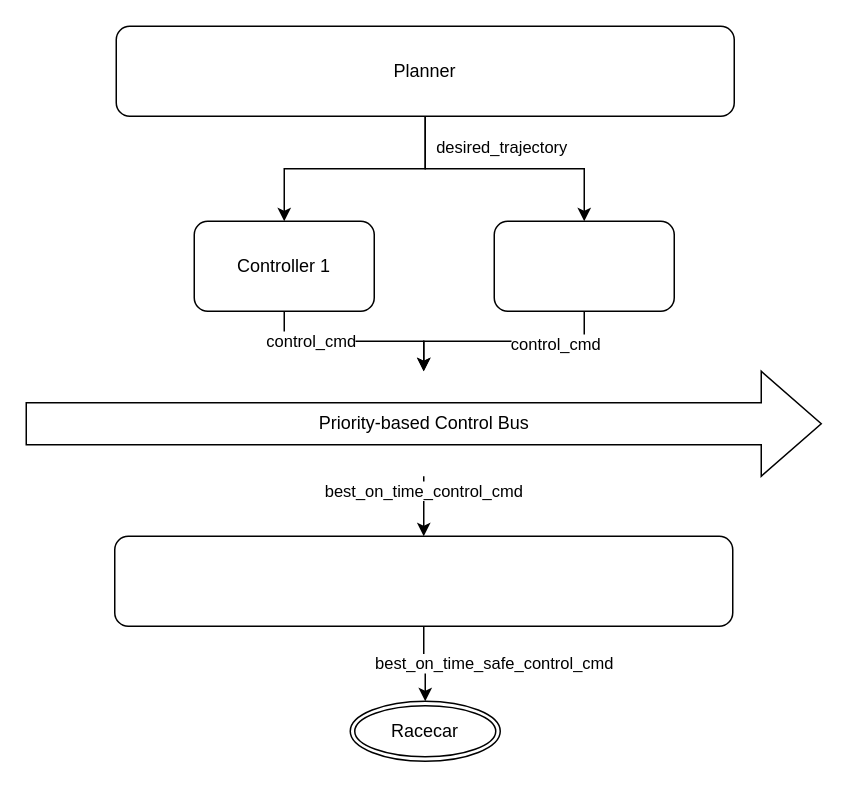
Image size: 848x788. Some labels were removed from this diagram. Each missing label, with the box of its shape:
Controller 2: (493, 220, 674, 311)
Vehicle Safety Layer: (113, 535, 733, 626)
